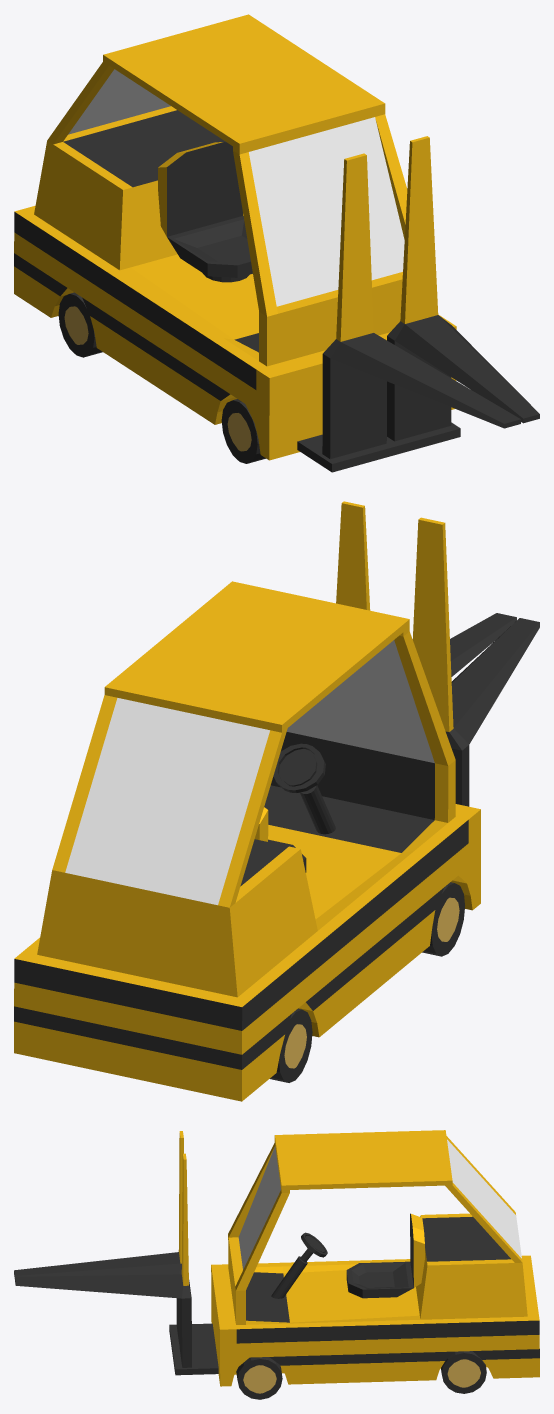
The model's file is forklift.glb.
3 views of the same model, one above another, from view 1: azimuth 30°, elevation 25°; view 2: azimuth 150°, elevation 25°; view 3: azimuth 270°, elevation 25° (orthographic). The views are drawn at different scales.
Visible parts, largest first — view 1: forklift.001; view 2: forklift.001; view 3: forklift.001.
Part boxes in pixels (box(x1,y1,x2,y2)): forklift.001: box(14, 14, 539, 472); forklift.001: box(14, 501, 539, 1101); forklift.001: box(14, 1130, 539, 1399).
Size of the model in its own units: 1.68 by 2.43 by 5.15.
